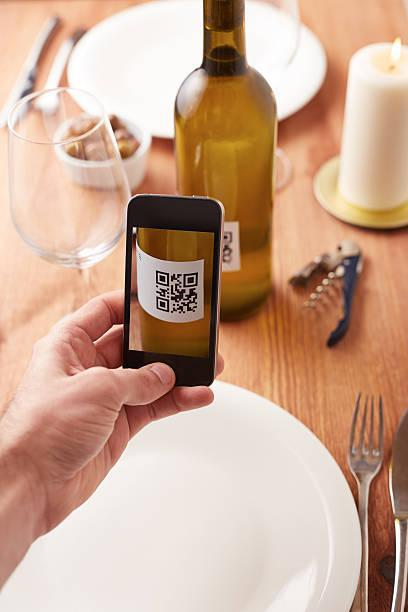Finder pattern: (151, 265, 174, 291), (181, 269, 203, 290), (153, 293, 172, 315), (220, 228, 235, 247)
